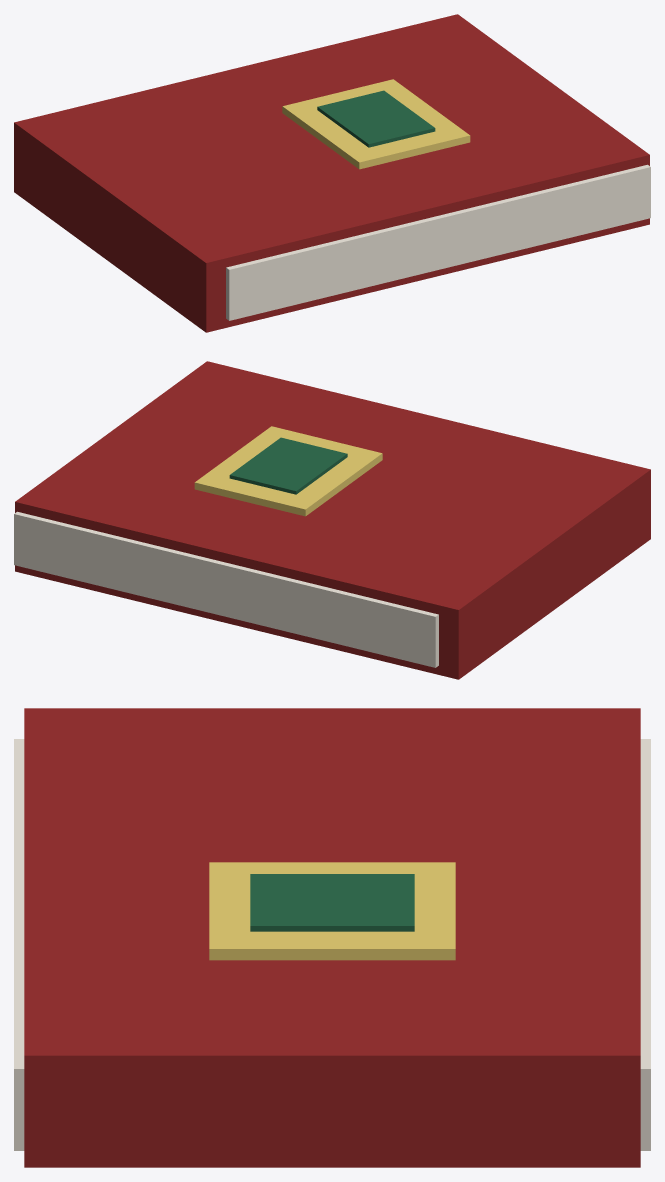
The model's file is stamp_album.glb.
3 views of the same model, one above another, from view 1: azimuth 30°, elevation 25°; view 2: azimuth 150°, elevation 25°; view 3: azimuth 270°, elevation 25° (orthographic). The views are drawn at different scales.
Parts seen in each view (by area): view 1: album_album_red, pages_album_pages, stamp_stamp_face, stamp_stamp_ink; view 2: album_album_red, pages_album_pages, stamp_stamp_face, stamp_stamp_ink; view 3: album_album_red, stamp_stamp_face, stamp_stamp_ink, pages_album_pages.
Boxes of the visible parts, box(x1,y1,x2,y2) form: album_album_red: box(14, 14, 649, 332); pages_album_pages: box(226, 164, 650, 320); stamp_stamp_face: box(282, 79, 470, 169); stamp_stamp_ink: box(317, 90, 435, 147); album_album_red: box(15, 361, 650, 679); pages_album_pages: box(14, 511, 438, 667); stamp_stamp_face: box(194, 426, 382, 516); stamp_stamp_ink: box(229, 437, 347, 494); album_album_red: box(24, 708, 640, 1167); stamp_stamp_face: box(209, 862, 455, 960); stamp_stamp_ink: box(250, 874, 414, 931); pages_album_pages: box(14, 739, 650, 1150).
Size of the model in its own units: 0.2 by 0.0345 by 0.155.
